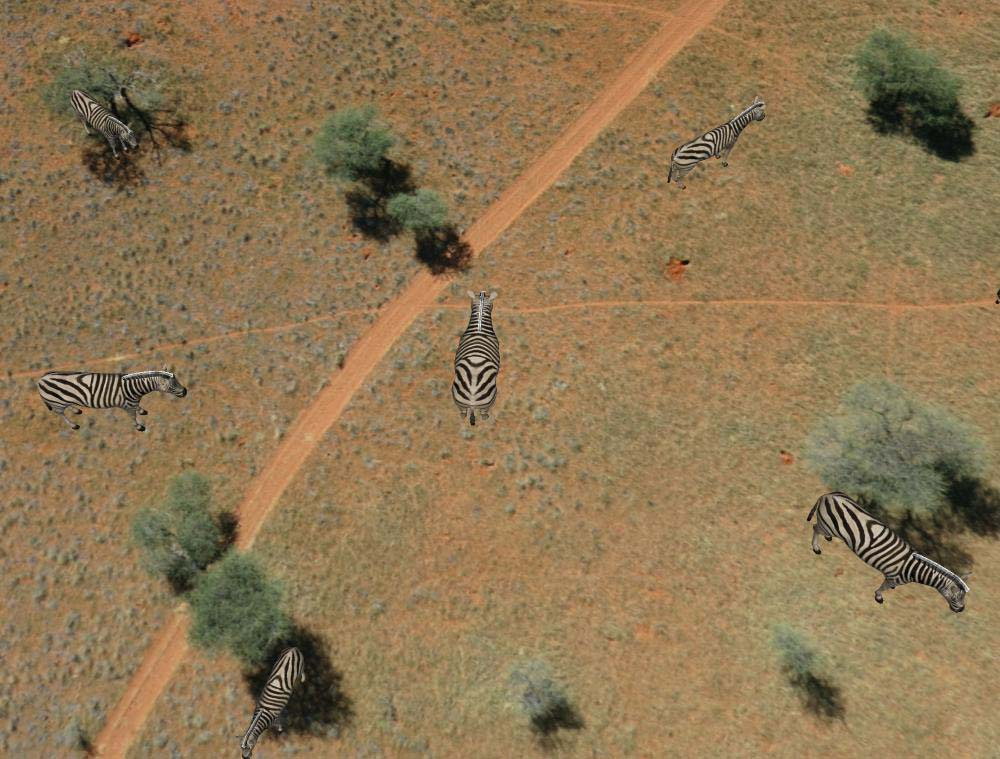zebra: (806, 480, 966, 624), (39, 359, 186, 439), (667, 99, 771, 188), (237, 642, 309, 759), (453, 285, 502, 429), (69, 85, 140, 169)
